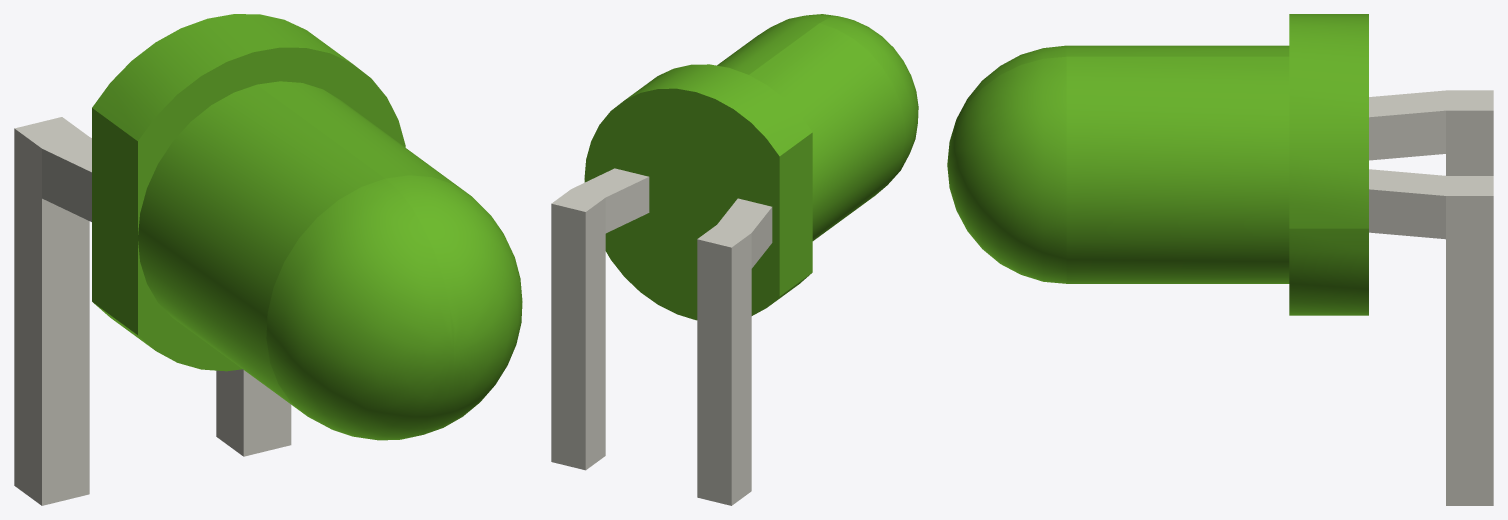
The model's file is kc-led_d3.0mm_horizontal_o1.27mm_z2.0mm.glb.
3 views of the same model, side by side, from view 1: azimuth 30°, elevation 25°; view 2: azimuth 150°, elevation 25°; view 3: azimuth 270°, elevation 25° (orthographic). The views are drawn at different scales.
Parts seen in each view (by area): view 1: 0.16666666666666666_0.4166666666666667_0_0, 0.6666666666666666_0.6666666666666666_0.5833333333333334_0.8; view 2: 0.16666666666666666_0.4166666666666667_0_0, 0.6666666666666666_0.6666666666666666_0.5833333333333334_0.8; view 3: 0.16666666666666666_0.4166666666666667_0_0, 0.6666666666666666_0.6666666666666666_0.5833333333333334_0.8.
Boxes of the visible parts, x1=… form: 0.16666666666666666_0.4166666666666667_0_0: x1=92, y1=14, x2=522, y2=440; 0.6666666666666666_0.6666666666666666_0.5833333333333334_0.8: x1=14, y1=117, x2=291, y2=505; 0.16666666666666666_0.4166666666666667_0_0: x1=584, y1=14, x2=918, y2=320; 0.6666666666666666_0.6666666666666666_0.5833333333333334_0.8: x1=551, y1=168, x2=772, y2=505; 0.16666666666666666_0.4166666666666667_0_0: x1=947, y1=14, x2=1368, y2=315; 0.6666666666666666_0.6666666666666666_0.5833333333333334_0.8: x1=1369, y1=90, x2=1493, y2=505.
Size of the model in its own units: 0.347 by 0.5899 by 0.687.
